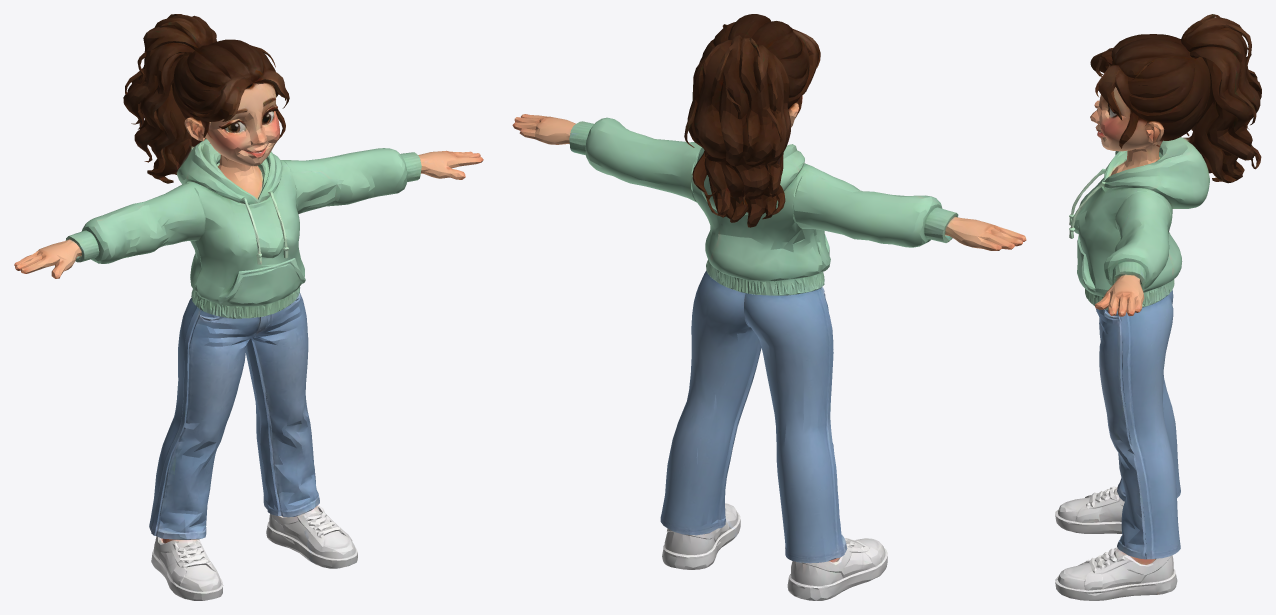
File: shopperB.glb
3 renders of one model, left to right at view 1: azimuth 30°, elevation 25°; view 2: azimuth 150°, elevation 25°; view 3: azimuth 270°, elevation 25°, orthographic. The views are drawn at different scales.
Visible parts, largest first — view 1: model; view 2: model; view 3: model.
Part boxes in pixels (<box>): model: <box>14,14,483,600</box>; model: <box>512,14,1026,600</box>; model: <box>1055,14,1261,600</box>.
Bounding box in the file's own units: 1.78 × 1.9 × 0.67.
1 material, 1 textured.
